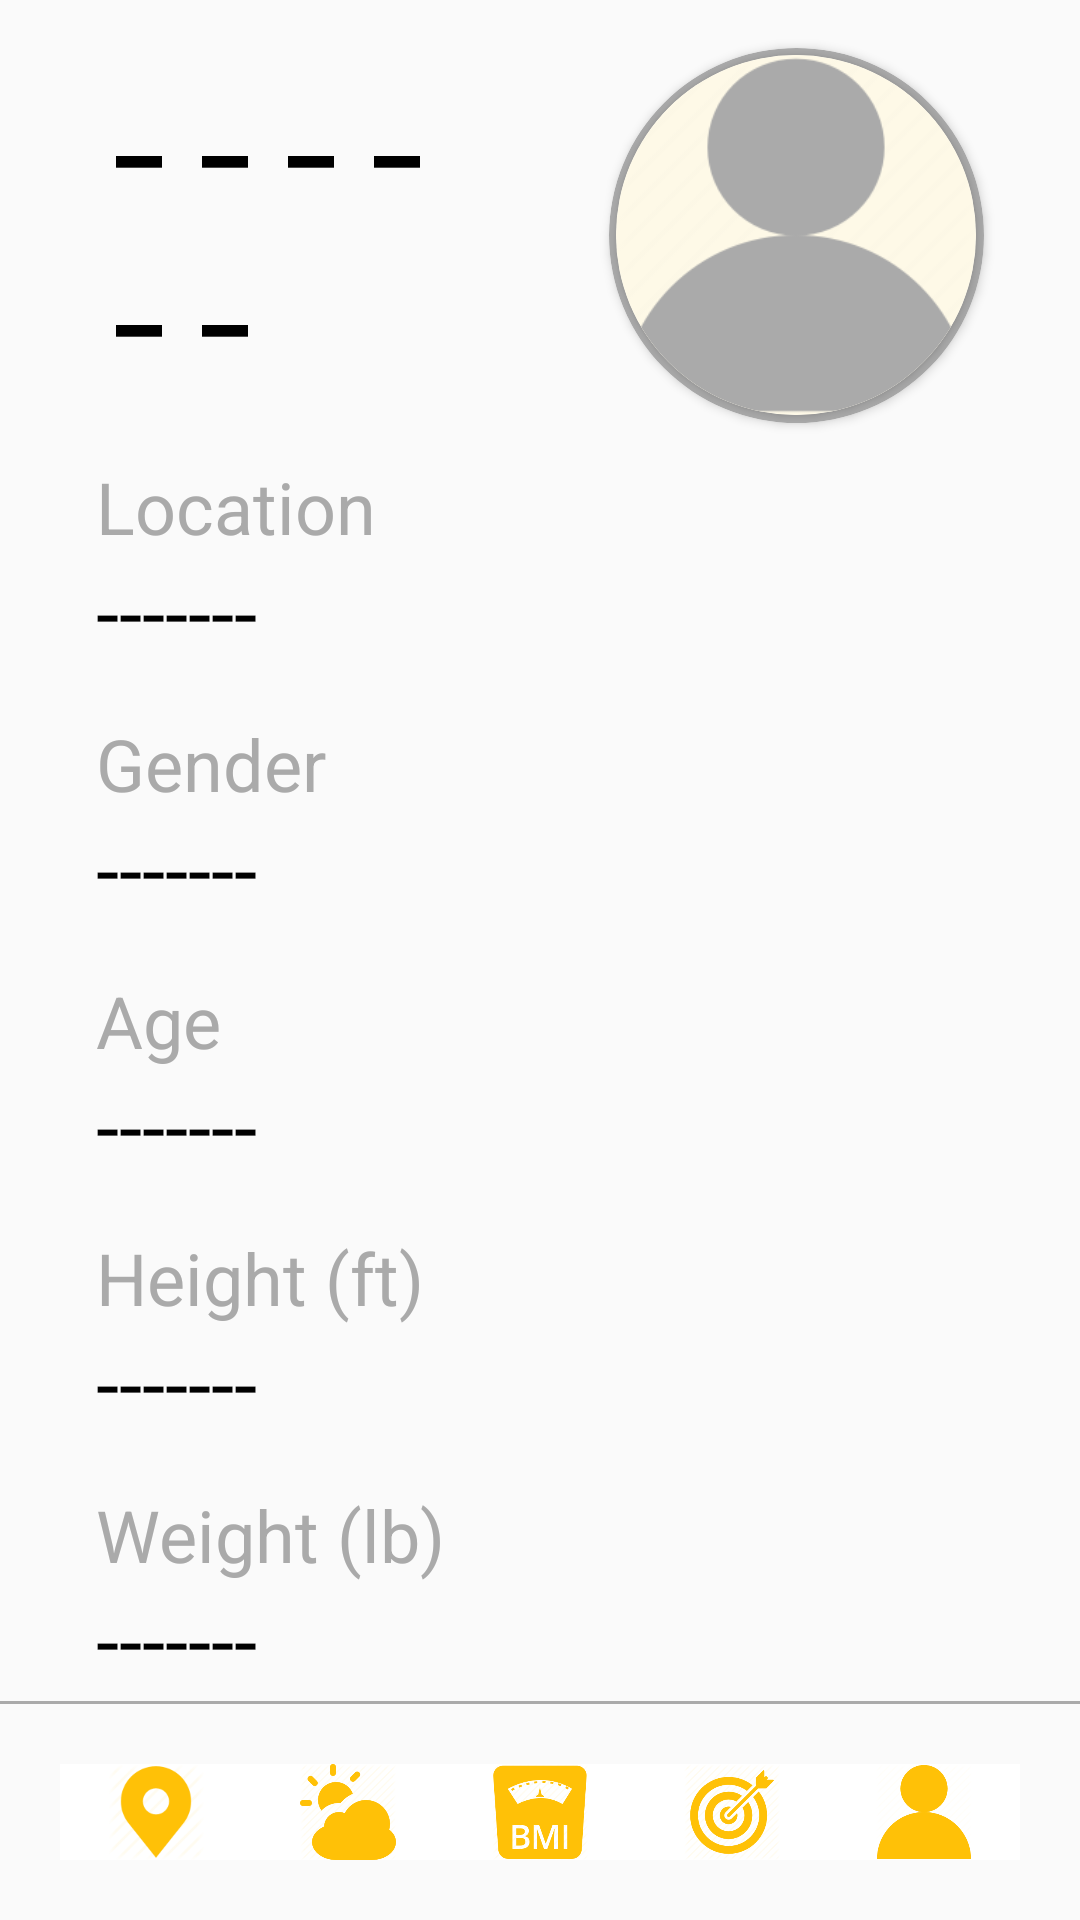

Named icons in this screenshot (1080px x 1920px) and their centers, (x,y):
goal: (732,1812)
map: (156,1812)
profile: (796,235), (924,1812)
weather: (348,1812)
